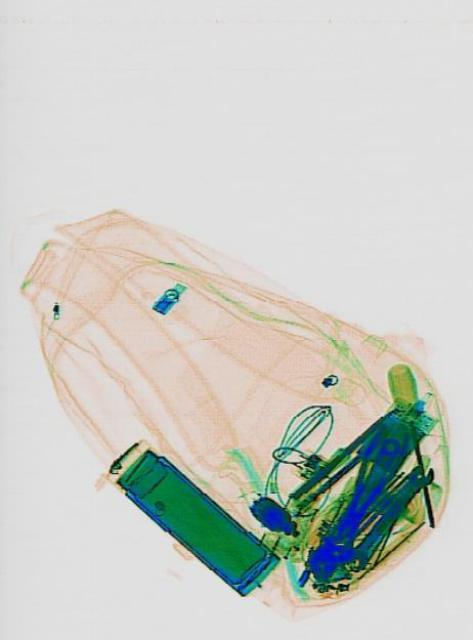Pliers: (320, 411, 413, 554)
Wrench: (303, 424, 405, 586), (344, 454, 435, 570)
